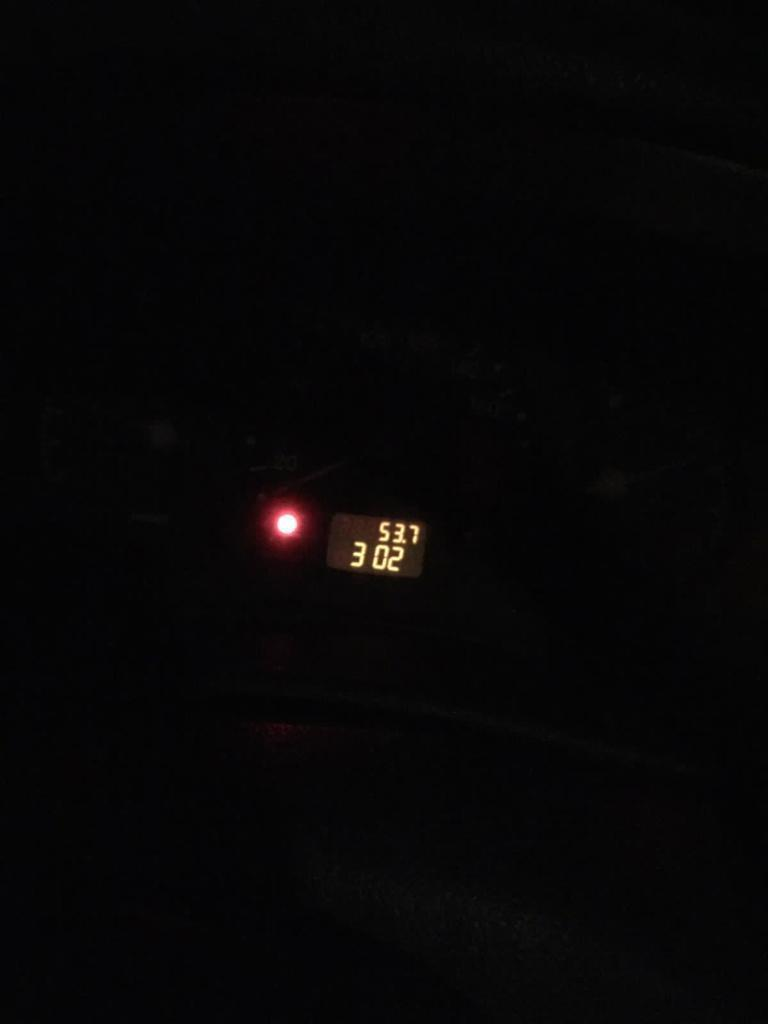,: (401, 538, 408, 545)
0: (371, 543, 388, 570)
2: (388, 545, 404, 573)
3: (350, 540, 367, 567), (393, 520, 400, 542)
5: (377, 519, 391, 542)
7: (409, 523, 421, 544)
odometer: (321, 505, 430, 580)
